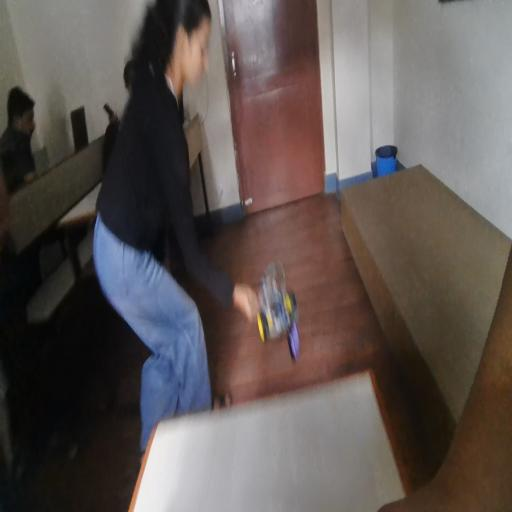car: (263, 285, 298, 345)
